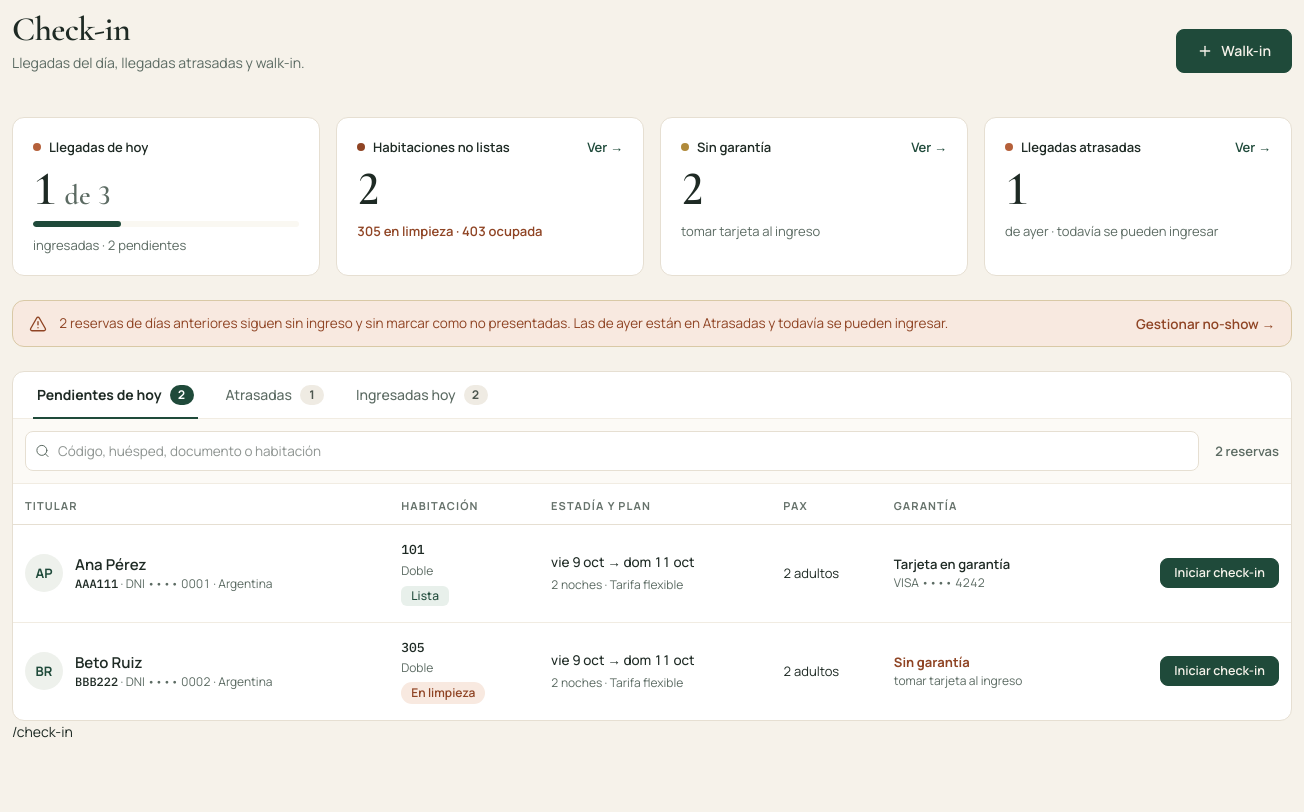
Scenario: encabezado y pestañas › la pestaña activa vive en ?vista= y cambia el listado
Expected: the text "Ana Pérez" is shown, top-left (75, 554), bottom-right (147, 575)
Expected: the text "Carla Díaz" is not shown
Click the tab "Atrasadas 1" at (275,396), box top-left (222, 372), bottom-right (328, 419)
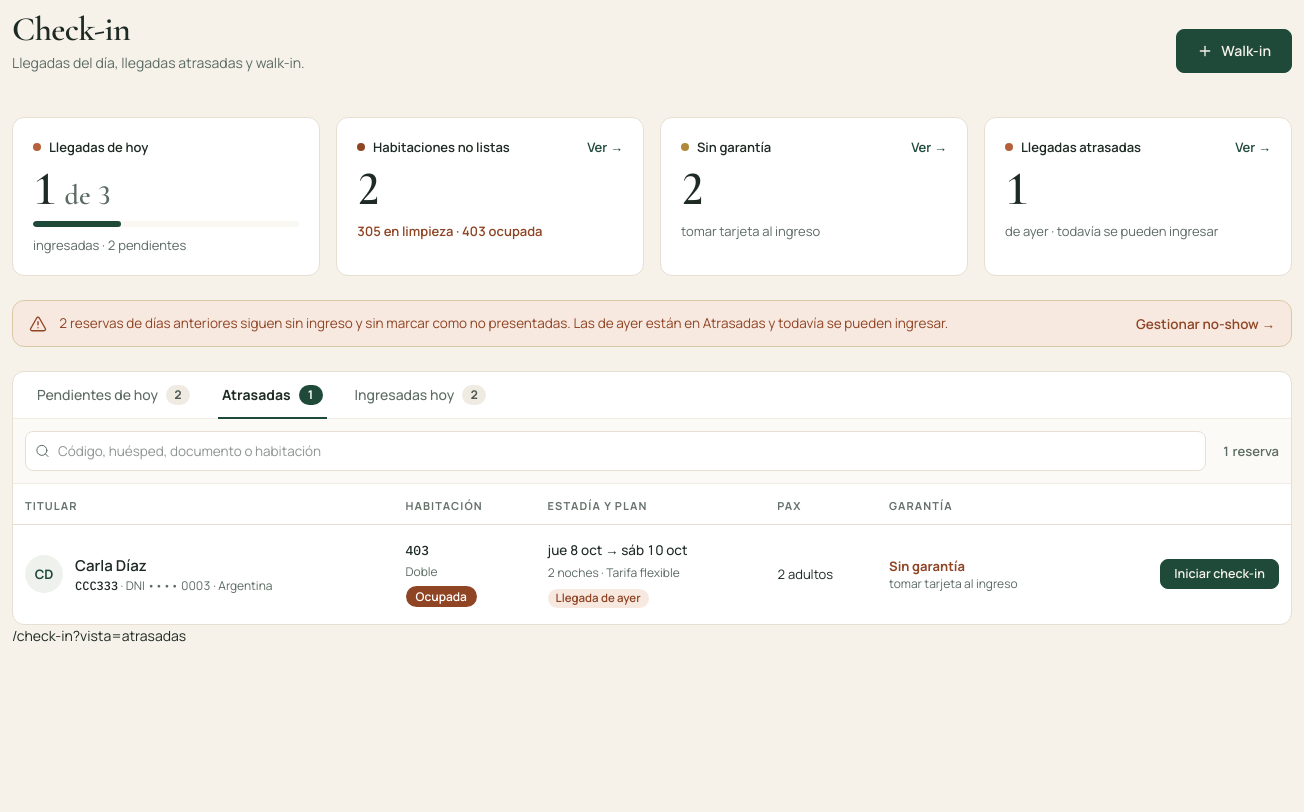
Expected: the text "Carla Díaz" is shown, top-left (75, 555), bottom-right (147, 576)
Expected: the text with test id "ubicacion" reads "/check-in?vista=atrasadas", top-left (12, 626), bottom-right (186, 645)
Expected: the text "Llegada de ayer" is shown, top-left (548, 589), bottom-right (649, 608)
Click the tab "Ingresadas hoy 2" at (420,396), box top-left (350, 372), bottom-right (490, 419)
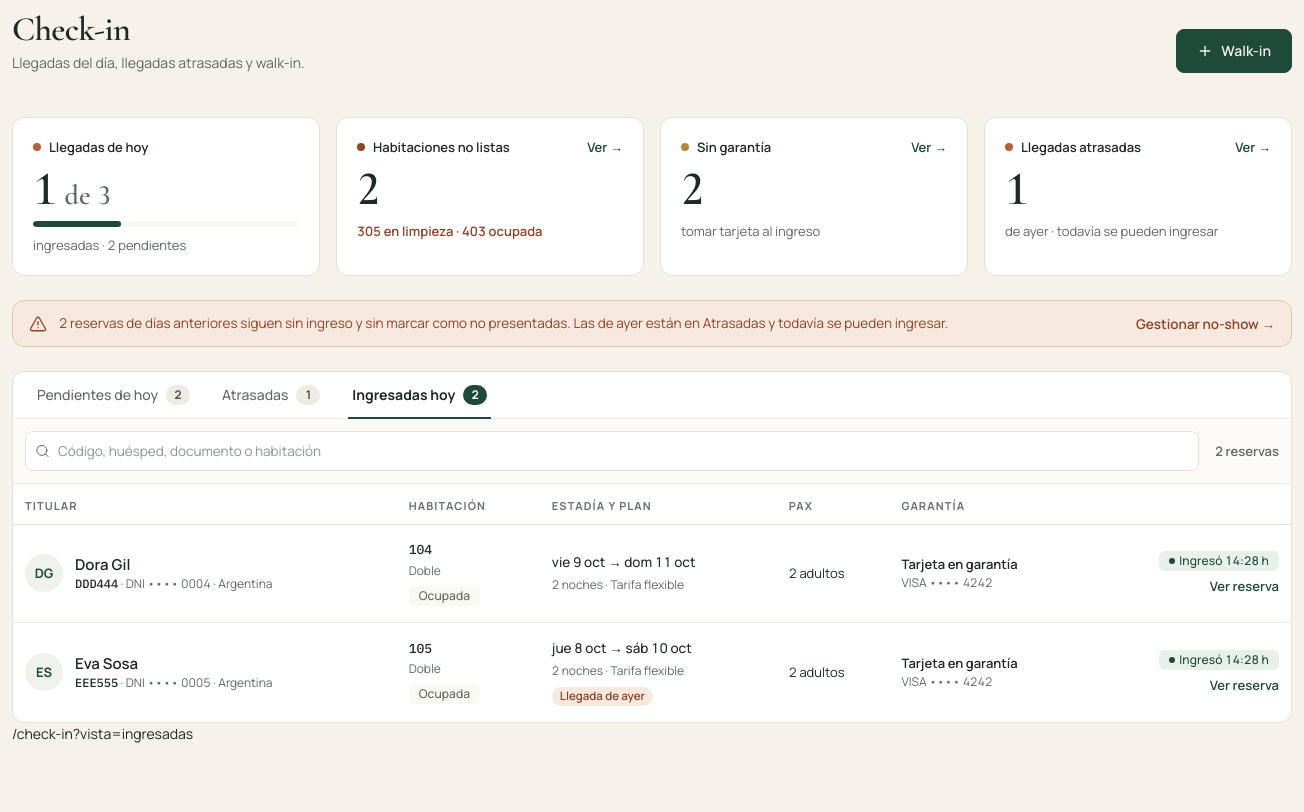
Expected: the text "Dora Gil" is shown, top-left (75, 554), bottom-right (130, 575)
Expected: the text "Ingresó 14:28 h" is shown 2 times, top-left (1159, 551), bottom-right (1279, 571); top-left (1159, 650), bottom-right (1279, 670)
Click the tab "Pendientes de hoy 2" at (114,396), box top-left (33, 372), bottom-right (194, 419)
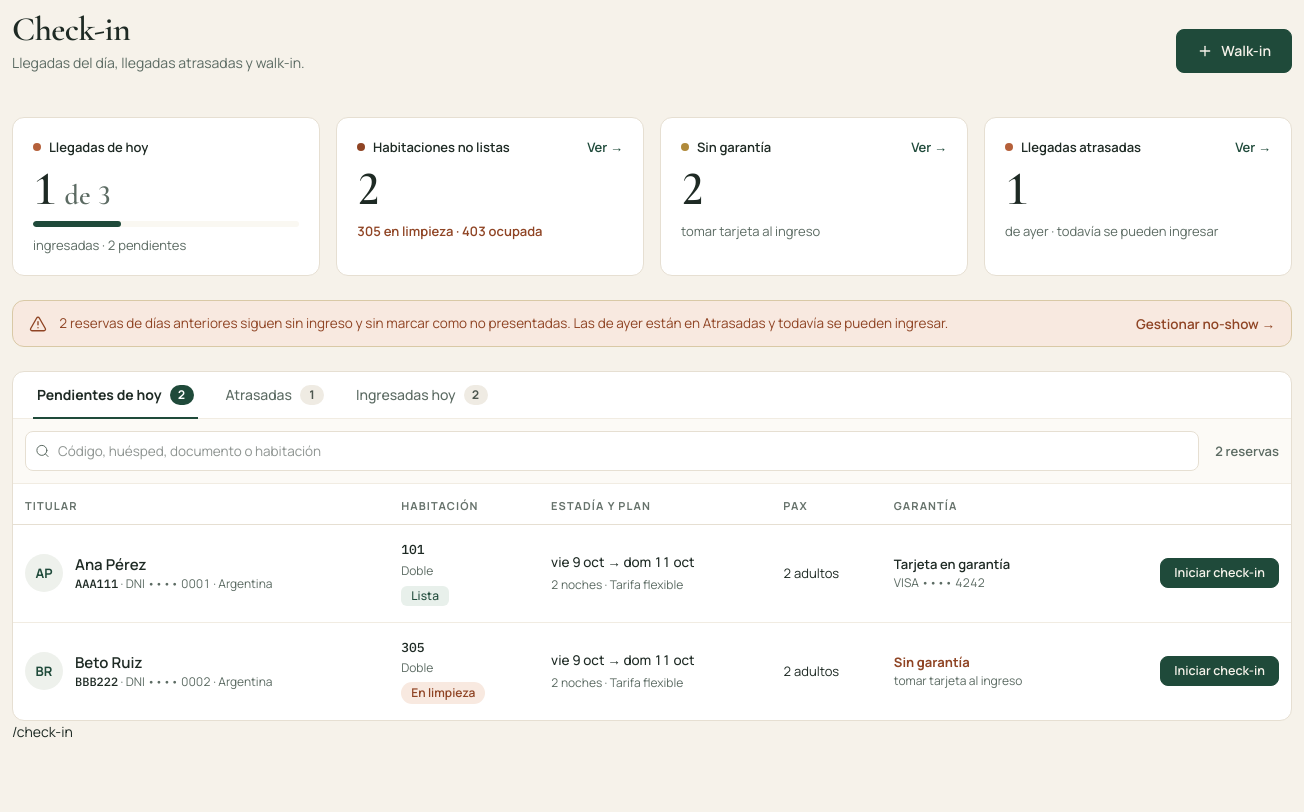
Expected: the text "Ana Pérez" is shown, top-left (75, 554), bottom-right (147, 575)
Expected: the text with test id "ubicacion" reads "/check-in", top-left (12, 722), bottom-right (73, 740)
Expected: the text with test id "ubicacion" no longer shows "vista", top-left (12, 722), bottom-right (73, 740)
